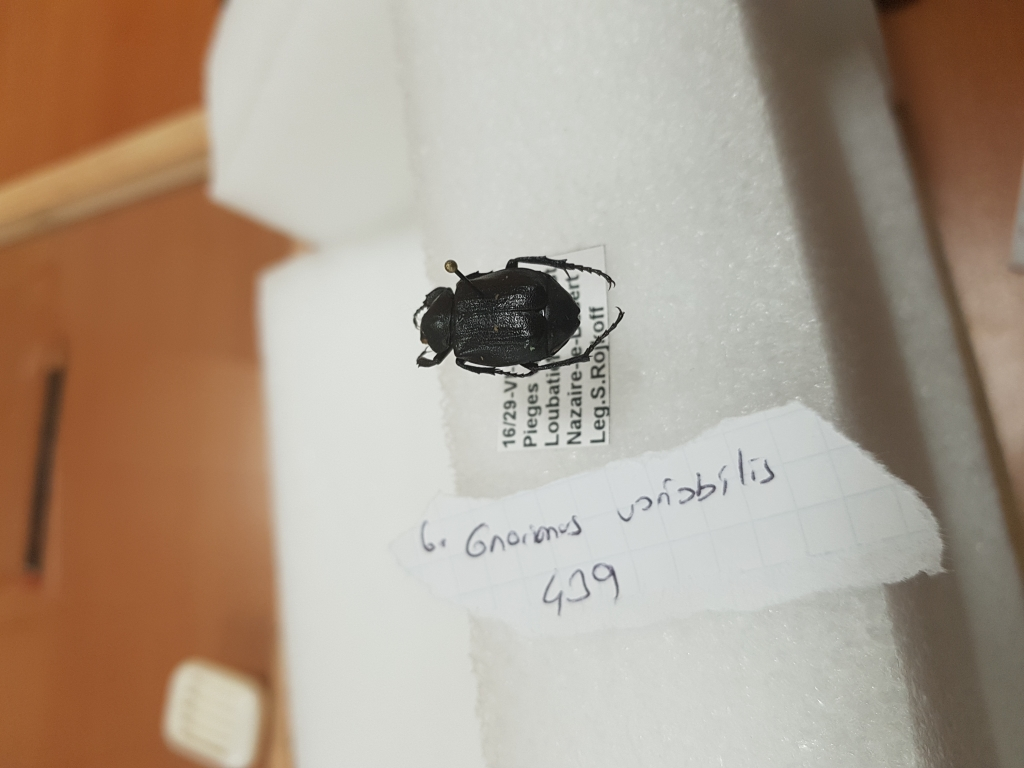Gnorimus_variabilis: (408, 248, 625, 385)
